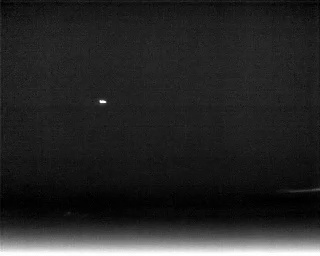AIRPLANE: (97, 97, 108, 106)
